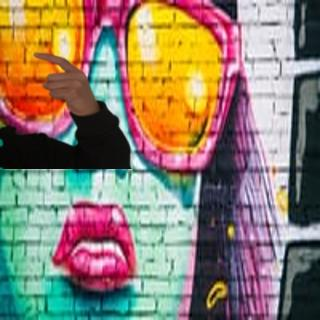WHY: (29, 47, 97, 114)
